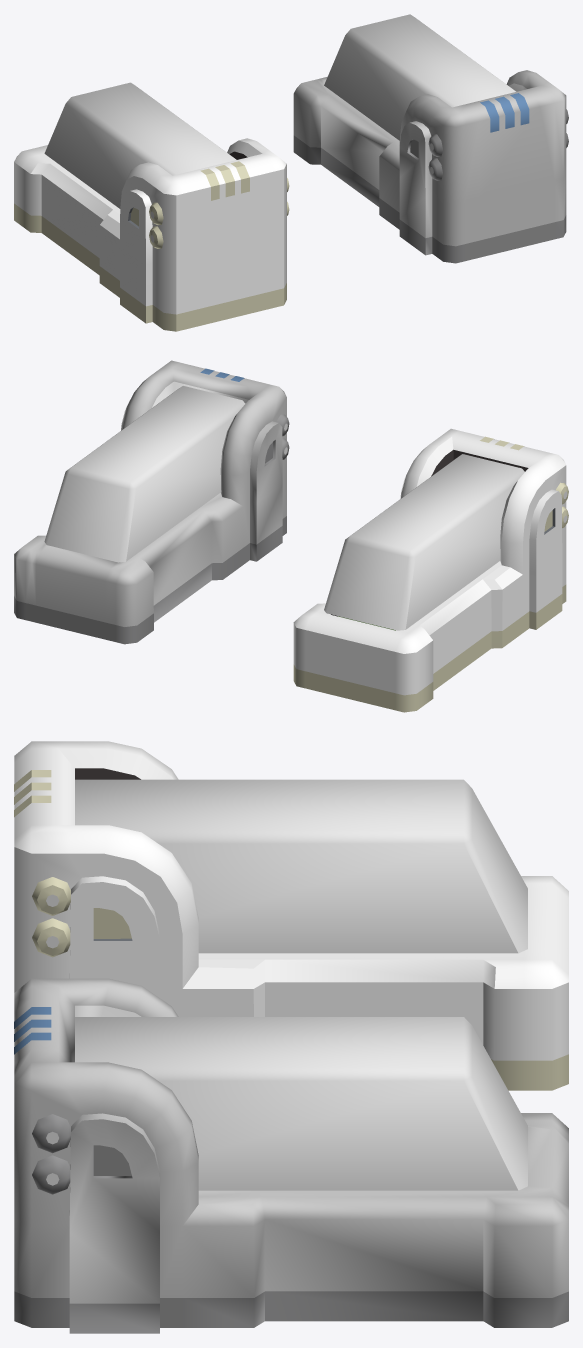
The model's file is SleeperBed.fbx.
The picture shows the model from 3 angles, top to bottom: view 1: azimuth 30°, elevation 25°; view 2: azimuth 150°, elevation 25°; view 3: azimuth 270°, elevation 25°; orthographic projection. The views are drawn at different scales.
Visible parts, largest first — view 1: SleeperBlue, SleeperGreen, SleeperGreenCover, SleeperBlueCover; view 2: SleeperGreen, SleeperBlue, SleeperGreenCover, SleeperBlueCover; view 3: SleeperBlue, SleeperGreen, SleeperGreenCover, SleeperBlueCover.
Part boxes in pixels (<box>): SleeperBlue: <box>293,70,568,263</box>; SleeperGreen: <box>14,138,289,331</box>; SleeperGreenCover: <box>44,82,236,208</box>; SleeperBlueCover: <box>324,14,516,140</box>; SleeperGreen: <box>293,428,568,712</box>; SleeperBlue: <box>14,360,289,644</box>; SleeperGreenCover: <box>324,454,524,630</box>; SleeperBlueCover: <box>44,386,245,562</box>; SleeperBlue: <box>14,978,568,1333</box>; SleeperGreen: <box>14,741,568,1090</box>; SleeperGreenCover: <box>75,779,527,953</box>; SleeperBlueCover: <box>75,1017,527,1190</box>.
Size of the model in its own units: 2.98 by 0.9904 by 1.98.
